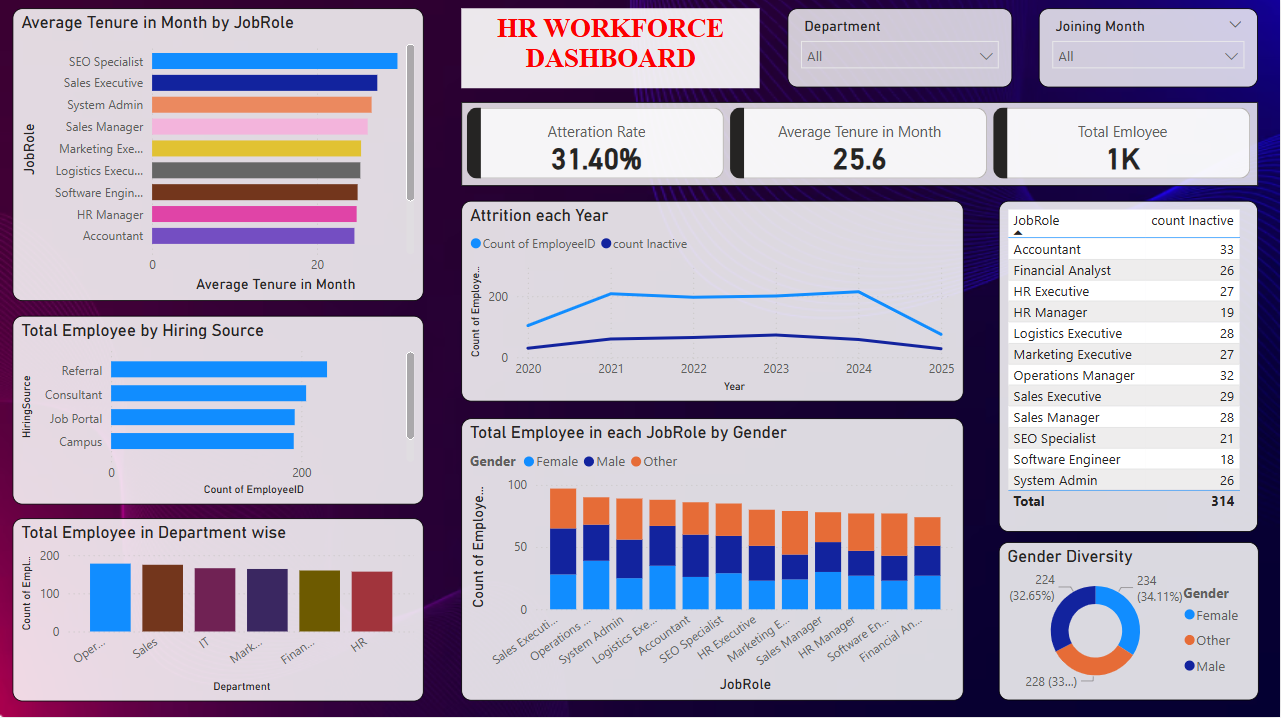

The page's visual inventory and layout, read from the dashboard file:
{"tool":"powerbi","page":{"name":"Page 1","canvas":[1280,720],"ordinal":0},"visuals":[{"type":"lineChart","title":"Attrition each Year","fields":{"Category":["HR Employee Data.DateOfJoining.Variation.Date Hierarchy.Year","HR Employee Data.DateOfJoining.Variation.Date Hierarchy.Quarter","HR Employee Data.DateOfJoining.Variation.Date Hierarchy.Month","HR Employee Data.DateOfJoining.Variation.Date Hierarchy.Day"],"Y":["CountNonNull(HR Employee Data.EmployeeID)","Measures Table.count Inactive"]},"box":[461.7,203.4,502.1,200.5],"z":0},{"type":"columnChart","title":"Total Employee in Department wise","fields":{"Category":["HR Employee Data.Department"],"Y":["CountNonNull(HR Employee Data.EmployeeID)"]},"box":[13,520.8,411.2,183.2],"z":1000},{"type":"donutChart","title":"Gender Diversity","fields":{"Category":["HR Employee Data.Gender"],"Y":["HR Employee Data.count active"]},"box":[998.4,545.4,259.7,158.7],"z":2000},{"type":"columnChart","title":"Total Employee in each JobRole by Gender","fields":{"Category":["HR Employee Data.JobRole"],"Series":["HR Employee Data.Gender"],"Y":["CountNonNull(HR Employee Data.EmployeeID)"]},"box":[461.7,421.3,502.1,282.8],"z":3000},{"type":"clusteredBarChart","title":"Total Employee by Hiring Source","fields":{"Category":["HR Employee Data.HiringSource"],"Y":["CountNonNull(HR Employee Data.EmployeeID)"]},"box":[13,318.9,411.2,189],"z":4000},{"type":"tableEx","title":"Attrition by Each JobRole","fields":{"Values":["HR Employee Data.JobRole","Measures Table.count Inactive"]},"box":[998.4,203.4,259,331],"z":5000},{"type":"cardVisual","fields":{"Data":["HR Employee Data.Atteration Rate","HR Employee Data.Average Tenure","Measures Table.Total Emloyee"]},"box":[461.7,105.3,796.4,83.7],"z":5500},{"type":"clusteredBarChart","fields":{"Y":["HR Employee Data.Average Tenure in Month"],"Category":["HR Employee Data.JobRole"]},"box":[13,11.5,411.2,292.9],"z":6000},{"type":"textbox","box":[461.7,11.5,298.7,80],"z":8000},{"type":"slicer","fields":{"Values":["HR Employee Data.Department"]},"box":[787.7,11.5,225.1,79.4],"z":9000},{"type":"slicer","fields":{"Values":["HR Employee Data.Joining Month"]},"box":[1038.8,11.5,219.3,79.4],"z":10000}]}

Visuals, with their boxes in screenshot pixels (x1, y1, x2, y2), scaled from the page's 1280x720 canvas onto the 1281x718 screenshot:
"Attrition each Year" lineChart: [left=462, top=203, right=965, bottom=403]
"Total Employee in Department wise" columnChart: [left=13, top=519, right=425, bottom=702]
"Gender Diversity" donutChart: [left=999, top=544, right=1259, bottom=702]
"Total Employee in each JobRole by Gender" columnChart: [left=462, top=420, right=965, bottom=702]
"Total Employee by Hiring Source" clusteredBarChart: [left=13, top=318, right=425, bottom=506]
"Attrition by Each JobRole" tableEx: [left=999, top=203, right=1258, bottom=533]
cardVisual - HR Employee Data.Atteration Rate x HR Employee Data.Average Tenure: [left=462, top=105, right=1259, bottom=188]
clusteredBarChart - HR Employee Data.Average Tenure in Month x HR Employee Data.JobRole: [left=13, top=11, right=425, bottom=304]
textbox: [left=462, top=11, right=761, bottom=91]
slicer - HR Employee Data.Department: [left=788, top=11, right=1014, bottom=91]
slicer - HR Employee Data.Joining Month: [left=1040, top=11, right=1259, bottom=91]
